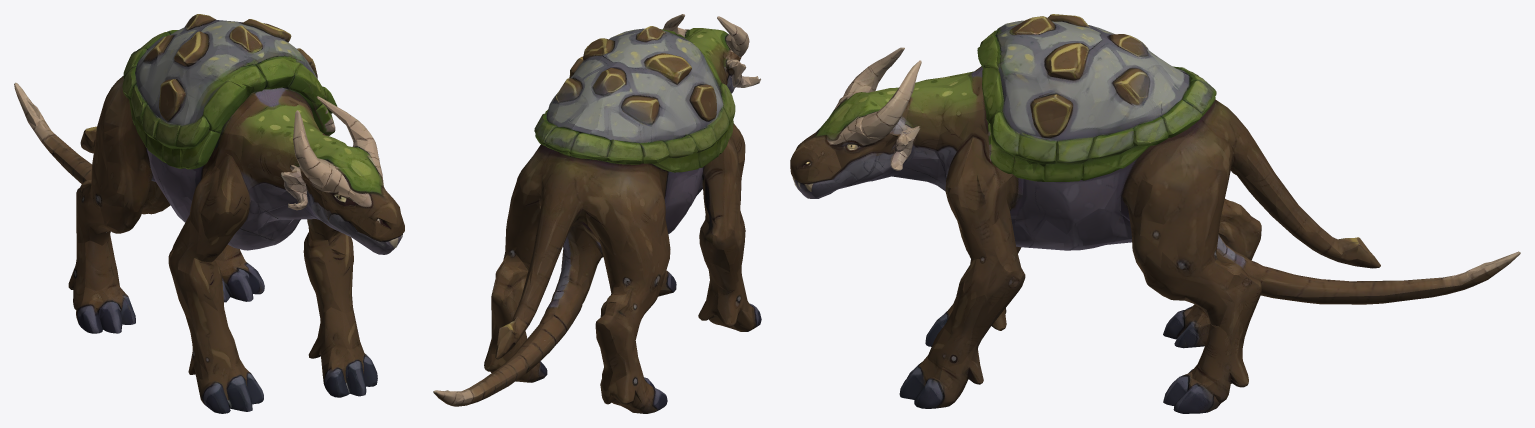
File: m_beast.glb
3 renders of one model, left to right at view 1: azimuth 30°, elevation 25°; view 2: azimuth 150°, elevation 25°; view 3: azimuth 270°, elevation 25°, orthographic. The views are drawn at different scales.
Bounding box in the file's own units: 0.5627 × 1.01 × 1.9.
Materials: 1 (1 with a texture image).
